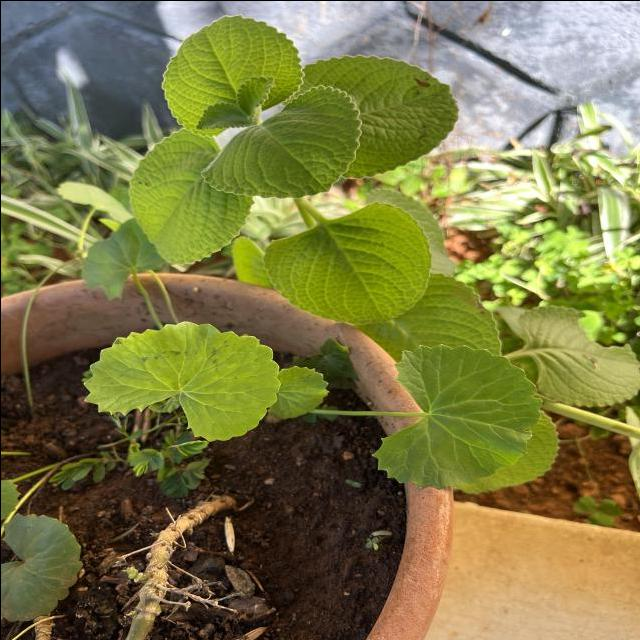Centella asiatica: (365, 338, 544, 494), (80, 317, 283, 444)
